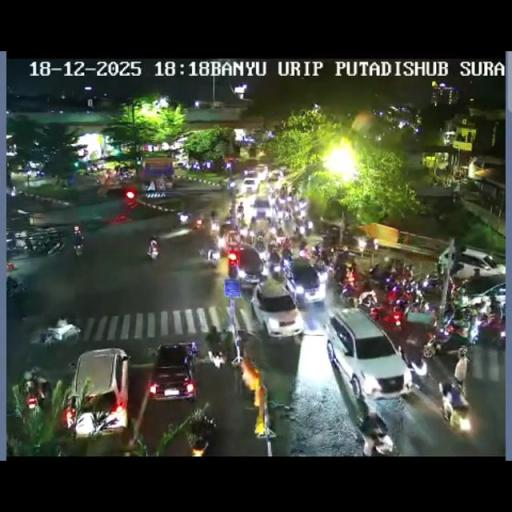Car: (326, 306, 410, 398), (66, 348, 132, 438), (250, 280, 302, 338), (148, 343, 199, 402), (438, 246, 505, 284), (284, 258, 326, 305), (227, 243, 266, 288), (250, 195, 272, 220), (219, 222, 240, 248), (242, 177, 260, 193), (252, 164, 269, 178), (268, 168, 283, 182)
Motorcycle: (438, 353, 472, 428), (424, 318, 471, 359), (471, 306, 505, 348), (35, 318, 81, 346), (370, 294, 404, 328), (398, 346, 426, 386), (206, 324, 230, 366), (363, 429, 399, 455), (266, 234, 296, 262), (402, 292, 434, 317), (415, 270, 444, 294), (367, 262, 393, 288), (23, 376, 41, 410), (310, 246, 335, 270), (339, 280, 361, 306), (198, 242, 220, 266), (466, 294, 490, 314), (333, 260, 350, 286), (189, 434, 209, 456), (268, 258, 286, 282), (294, 216, 312, 238), (6, 276, 23, 298), (440, 306, 456, 328), (234, 328, 249, 350), (358, 290, 376, 308), (46, 238, 64, 255), (146, 240, 160, 260), (24, 235, 37, 254), (273, 192, 286, 211), (6, 230, 18, 250), (254, 237, 266, 256), (65, 360, 77, 379), (228, 201, 238, 222), (402, 263, 414, 280), (73, 238, 84, 256), (176, 211, 190, 225), (243, 230, 255, 246), (118, 169, 134, 181), (236, 210, 246, 228), (250, 216, 260, 234), (434, 260, 444, 278), (298, 246, 310, 260), (275, 208, 285, 224), (226, 178, 237, 192), (267, 182, 278, 196), (297, 198, 308, 212), (210, 218, 219, 234), (163, 176, 173, 190), (6, 186, 17, 198), (193, 216, 203, 229), (276, 226, 285, 238), (95, 176, 103, 186), (210, 210, 216, 220)
